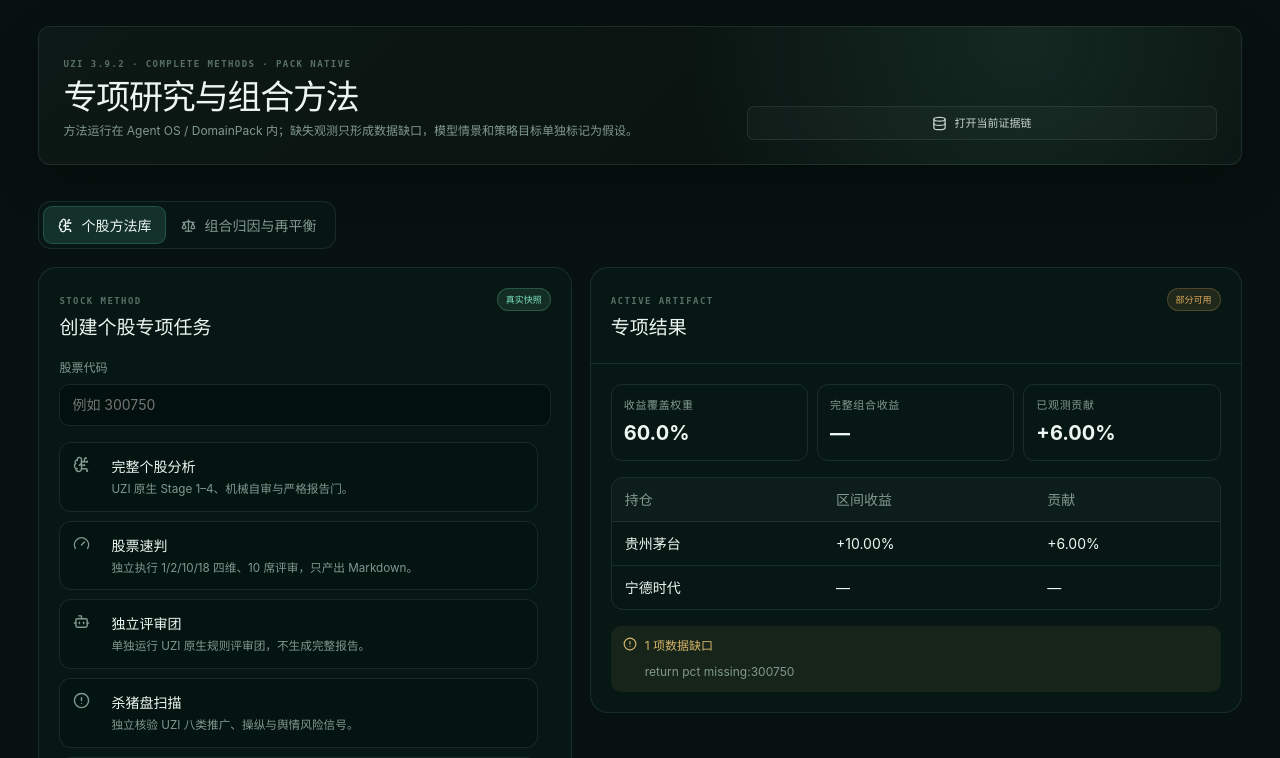
Test: UziMethods › exposes all 20 pinned UZI commands through Web controls
The width and height of the screenshot is (1280, 758).
Expected: the button "完整个股分析 UZI 原生 Stage 1–4、机械自审与严格报告门。" is shown, [59,442,538,512]
Expected: the button "股票速判 独立执行 1/2/10/18 四维、10 席评审，只产出 Markdown。" is shown, [59,520,538,590]
Click the button "组合归因与再平衡" at [249, 225], box [166,206,331,244]
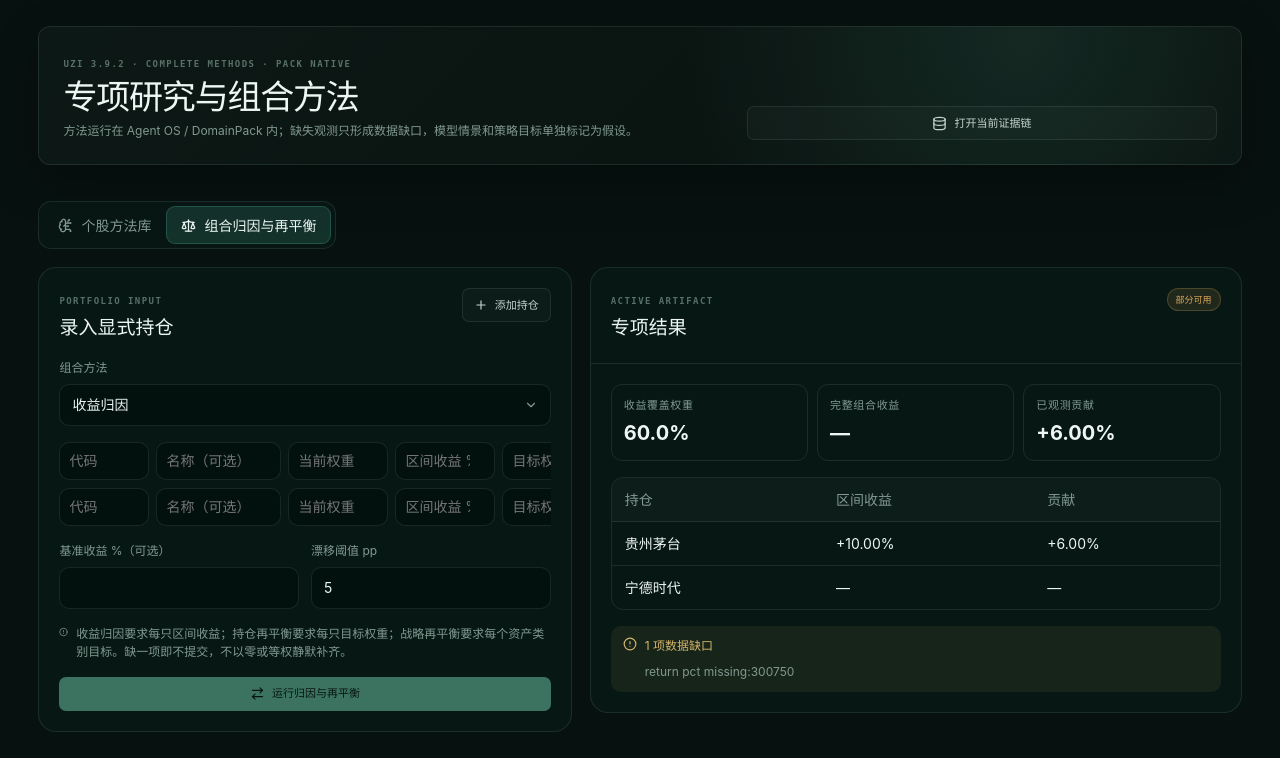
Expected: the dropdown named "组合方法" reads "收益归因"
Click the dropdown named "组合方法" at [100, 405], box [59,384,551,426]
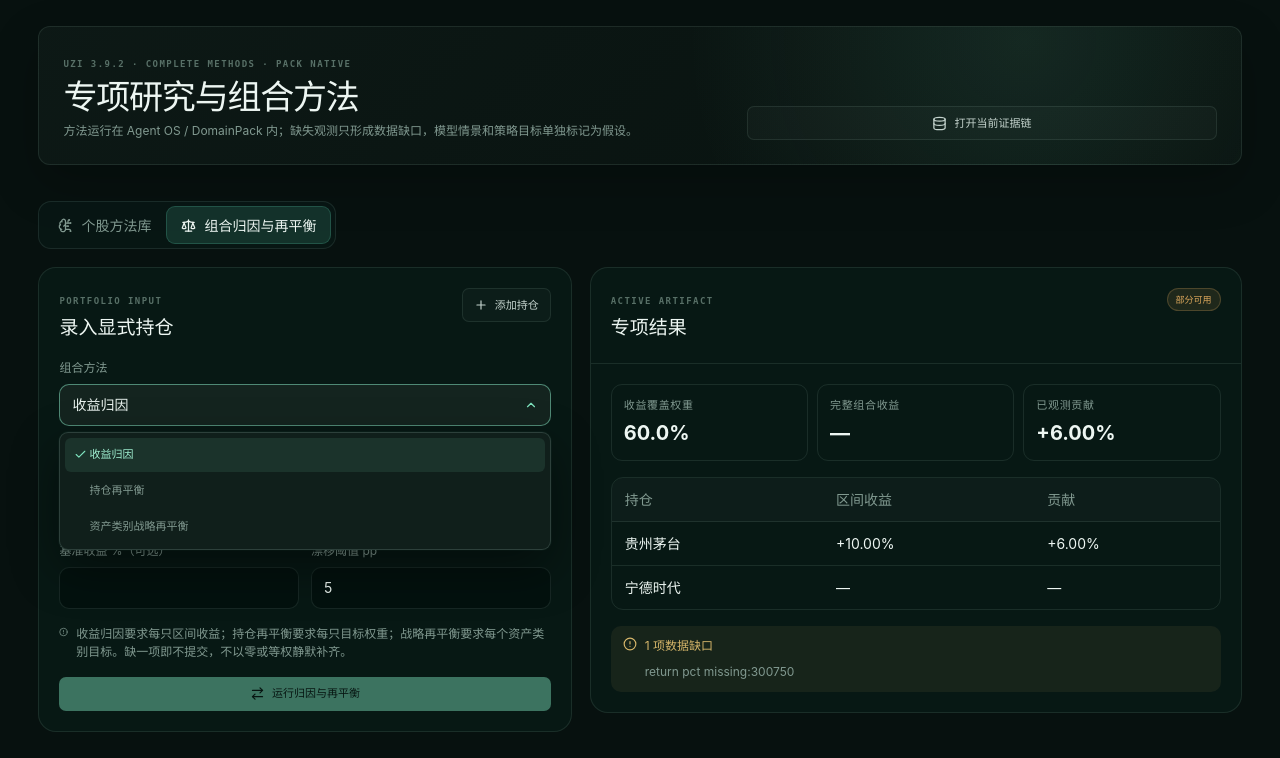
Expected: the option "持仓再平衡" is shown, [65,474,545,508]
